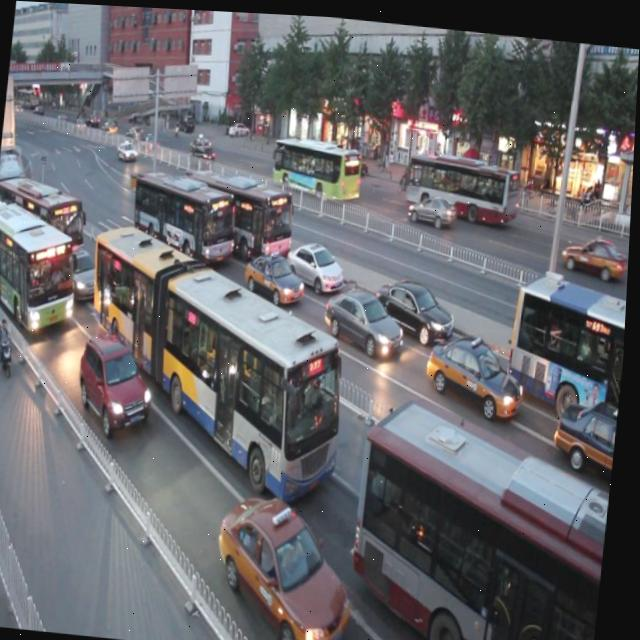car: (215, 482, 367, 640), (426, 318, 533, 416), (77, 330, 162, 437), (323, 272, 408, 354), (377, 262, 461, 336), (552, 387, 623, 467), (243, 236, 309, 302), (285, 225, 348, 289), (56, 246, 107, 305)
van: (75, 211, 363, 499), (349, 395, 621, 640), (507, 264, 630, 411), (128, 156, 243, 268), (185, 154, 301, 259), (0, 198, 88, 336), (0, 166, 91, 264)
